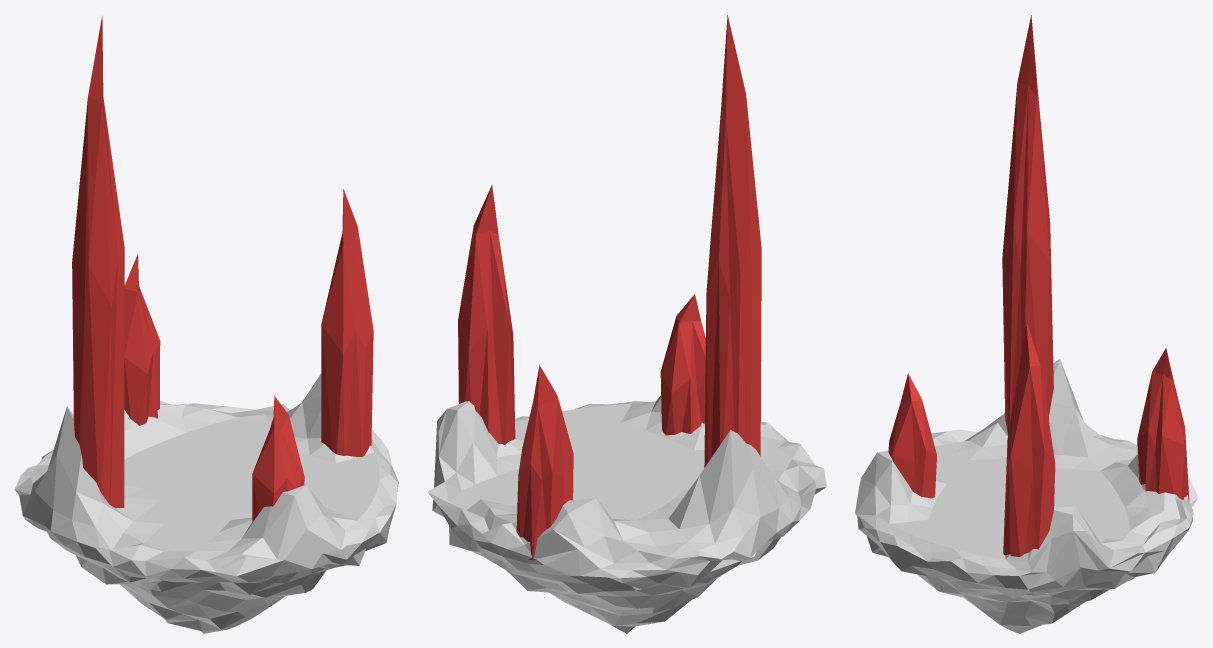
The model's file is Light_Ground_Organic.fbx.
3 renders of one model, left to right at view 1: azimuth 30°, elevation 25°; view 2: azimuth 150°, elevation 25°; view 3: azimuth 270°, elevation 25°, orthographic. The views are drawn at different scales.
Visible parts, largest first — view 1: Light_earth_organic.001; view 2: Light_earth_organic.001; view 3: Light_earth_organic.001.
Part boxes in pixels (bbox=[...]): Light_earth_organic.001: bbox=[14, 16, 398, 633]; Light_earth_organic.001: bbox=[427, 15, 826, 633]; Light_earth_organic.001: bbox=[855, 15, 1198, 633].
Size of the model in its own units: 4830 by 8804 by 4808.
